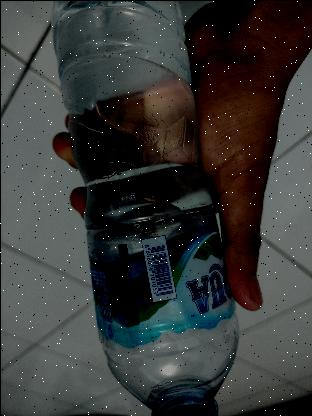Plastic Bottle: (33, 0, 246, 416)
